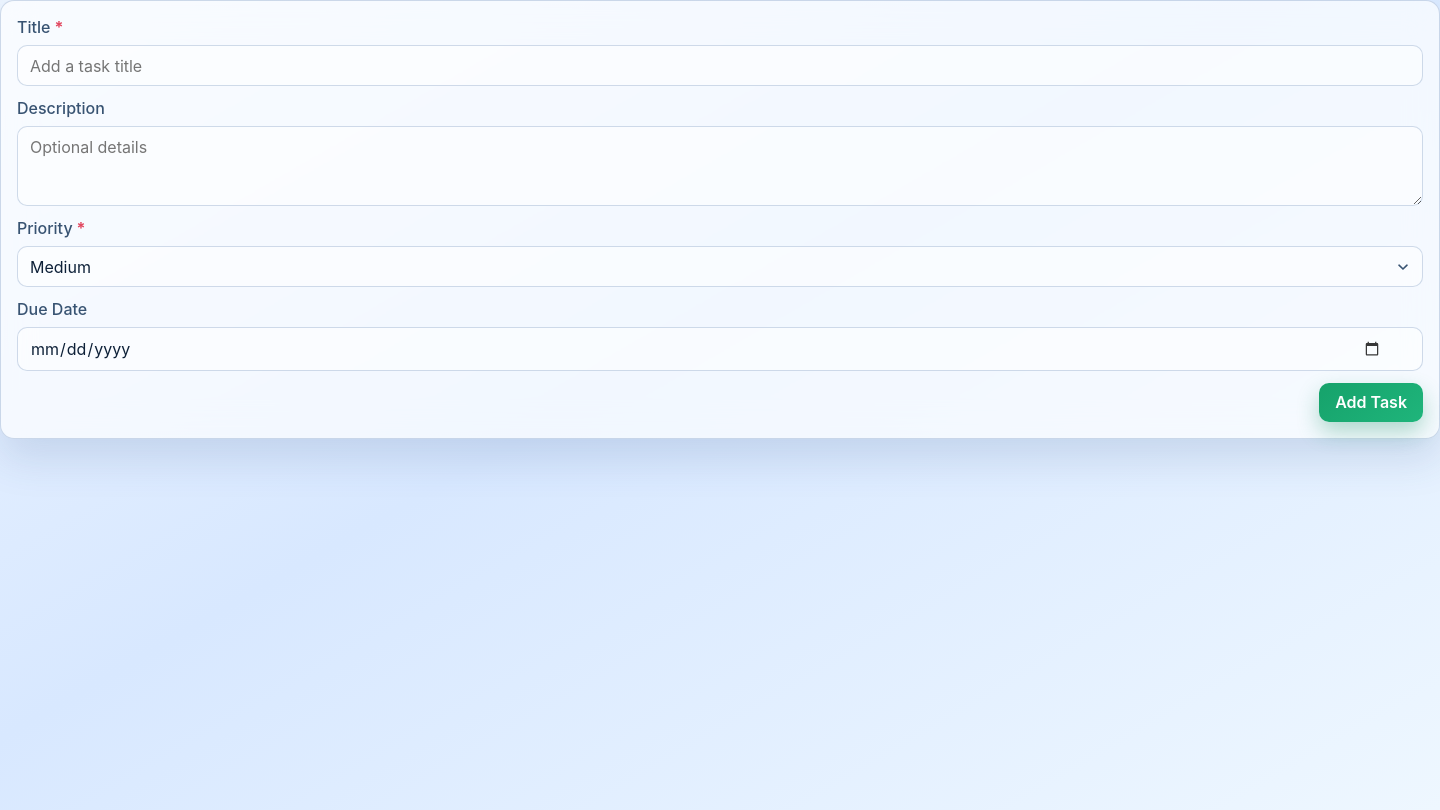
Test: TaskForm › shows required validation when title is empty
This screenshot has width=1440, height=810.
Expected: the text "Title is required." is not shown
Click the button "Add Task". click: point(1371, 402)
box: [1319,383,1423,422]
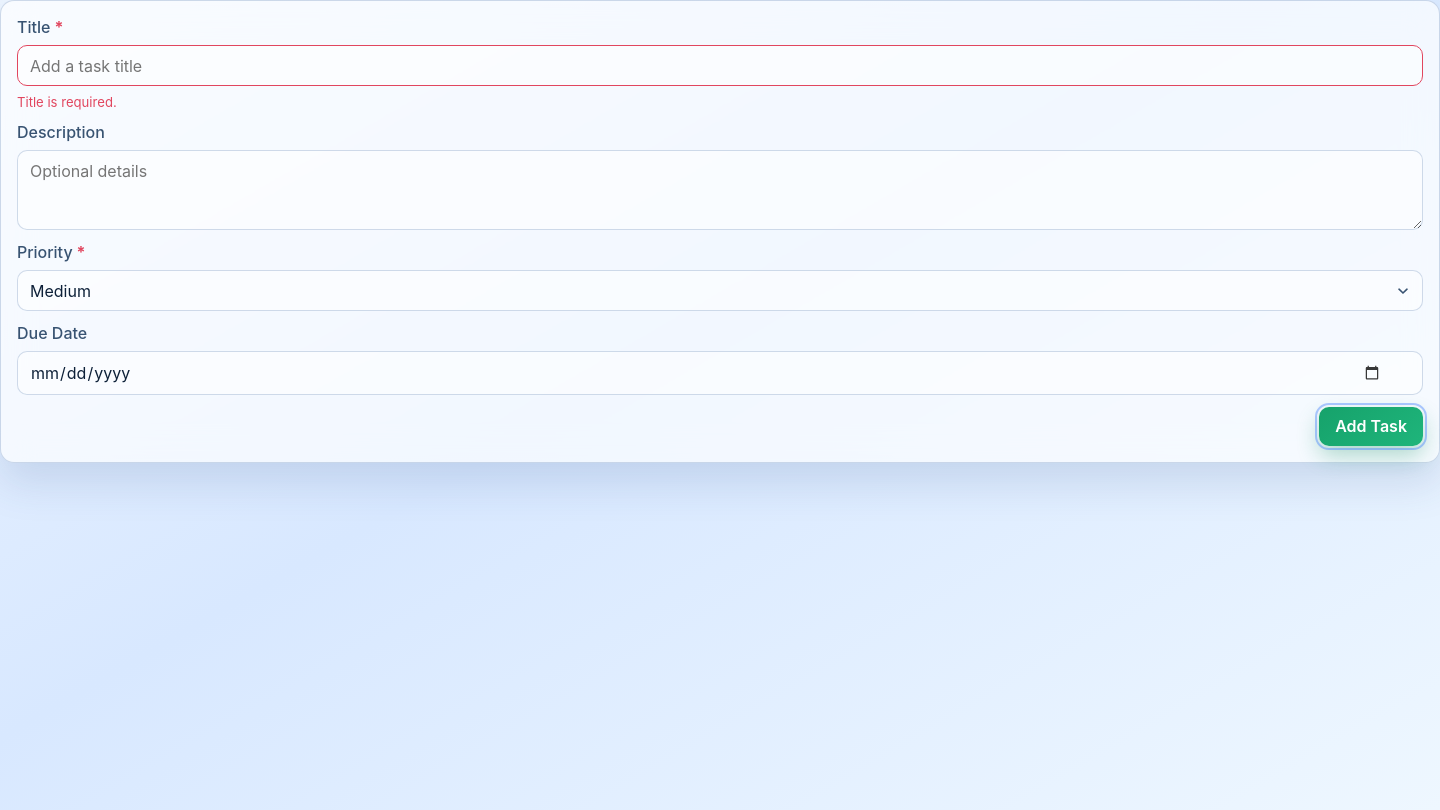
Expected: the text "Title is required." is shown, [17,94,117,110]
